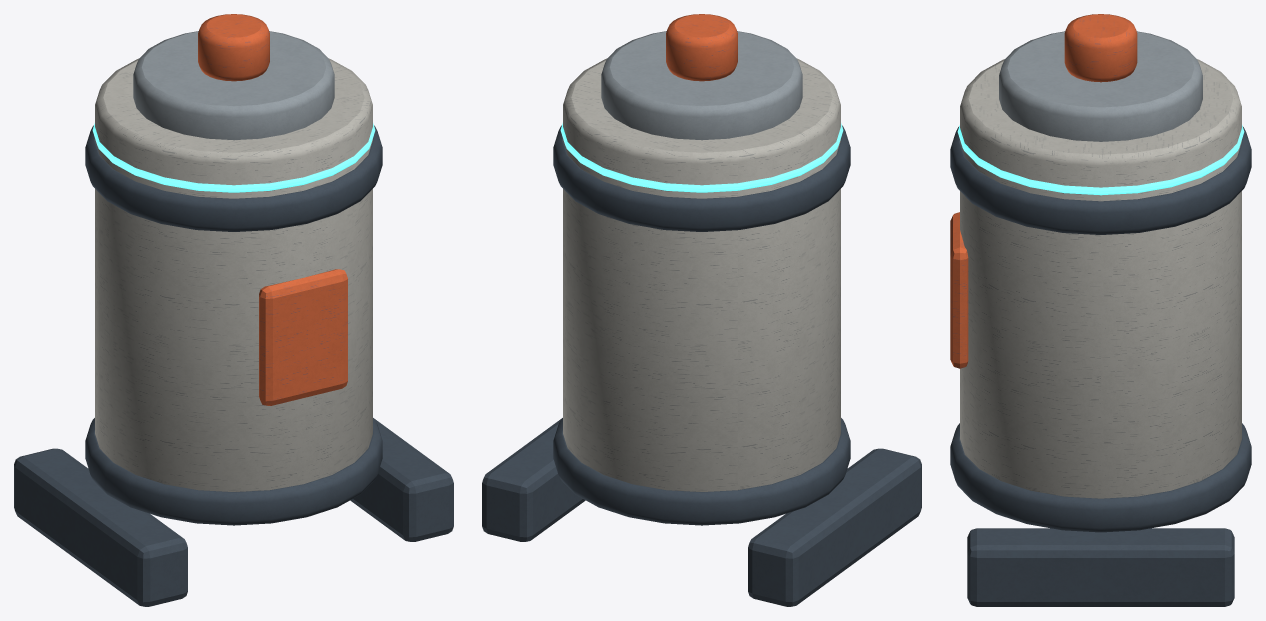
File: oxygen.glb
The picture shows the model from 3 angles, left to right: view 1: azimuth 30°, elevation 25°; view 2: azimuth 150°, elevation 25°; view 3: azimuth 270°, elevation 25°; orthographic projection.
Parts seen in each view (by area): view 1: Tank barrel, Oxygen feet, Shoulder, Valve, Status collar; view 2: Tank barrel, Oxygen feet, Shoulder, Valve, Status collar; view 3: Tank barrel, Oxygen feet, Shoulder, Valve, Status collar.
Part boxes in pixels (left/top/right/bottom): Tank barrel: left=95, top=58, right=372, bottom=491; Oxygen feet: left=14, top=125, right=453, bottom=606; Shoulder: left=133, top=31, right=334, bottom=140; Valve: left=198, top=14, right=347, bottom=405; Status collar: left=92, top=123, right=375, bottom=192; Tank barrel: left=563, top=58, right=840, bottom=491; Oxygen feet: left=482, top=125, right=921, bottom=606; Shoulder: left=601, top=31, right=802, bottom=140; Valve: left=666, top=14, right=737, bottom=81; Status collar: left=560, top=123, right=843, bottom=192; Tank barrel: left=960, top=59, right=1241, bottom=498; Oxygen feet: left=950, top=127, right=1251, bottom=606; Shoulder: left=999, top=31, right=1202, bottom=141; Valve: left=950, top=14, right=1137, bottom=368; Status collar: left=957, top=125, right=1244, bottom=195.
Size of the model in its own units: 1.52 by 2.3 by 1.24.
Materials: 5 (4 with a texture image).
